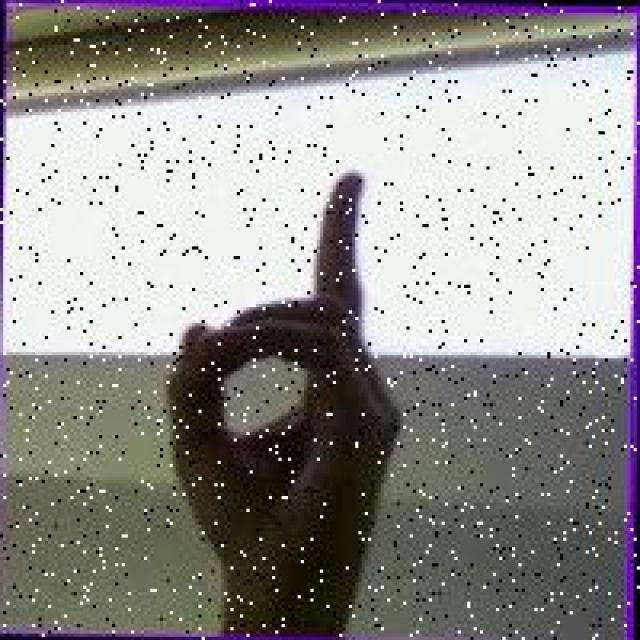D: (160, 165, 413, 622)
